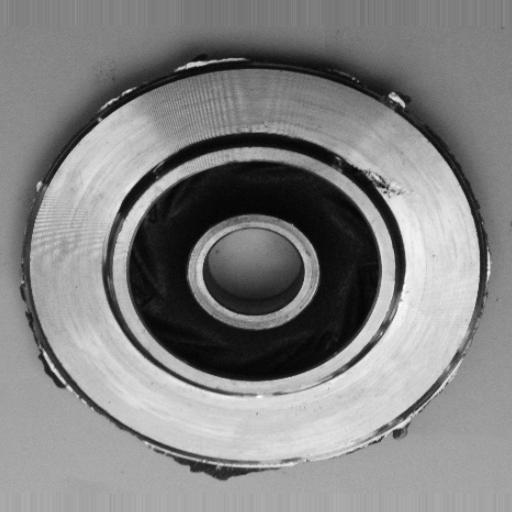casting_with_burr: (15, 54, 491, 487)
crack: (347, 153, 413, 211)
scratch: (224, 374, 345, 411)
